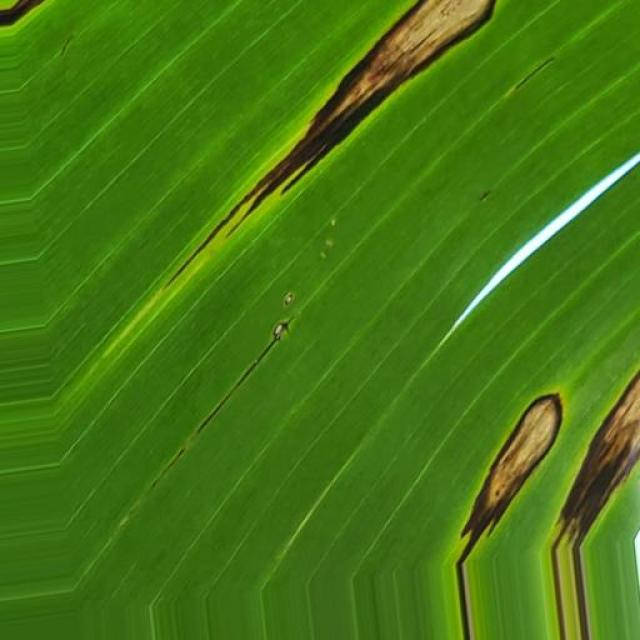Early_rust: (207, 0, 501, 212), (430, 338, 640, 571)
